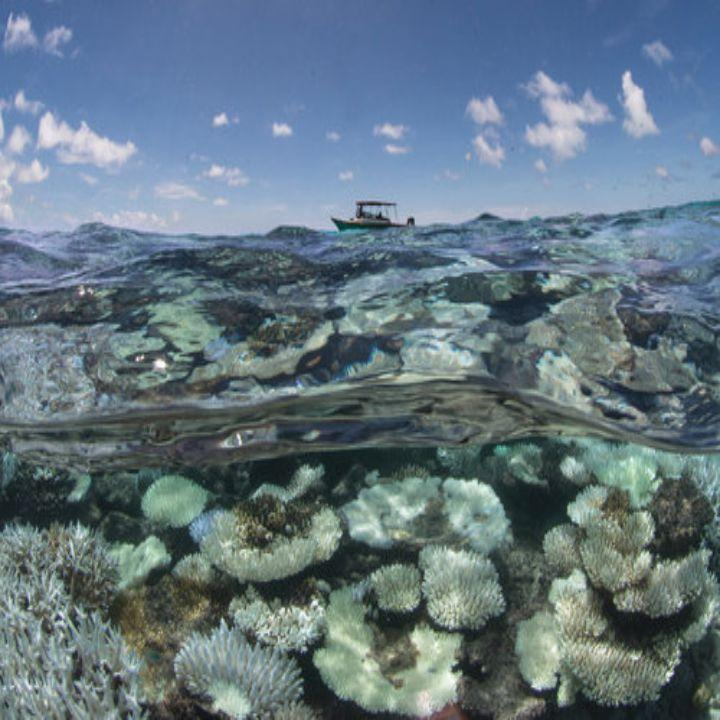Bleached disease: (5, 512, 698, 715)
